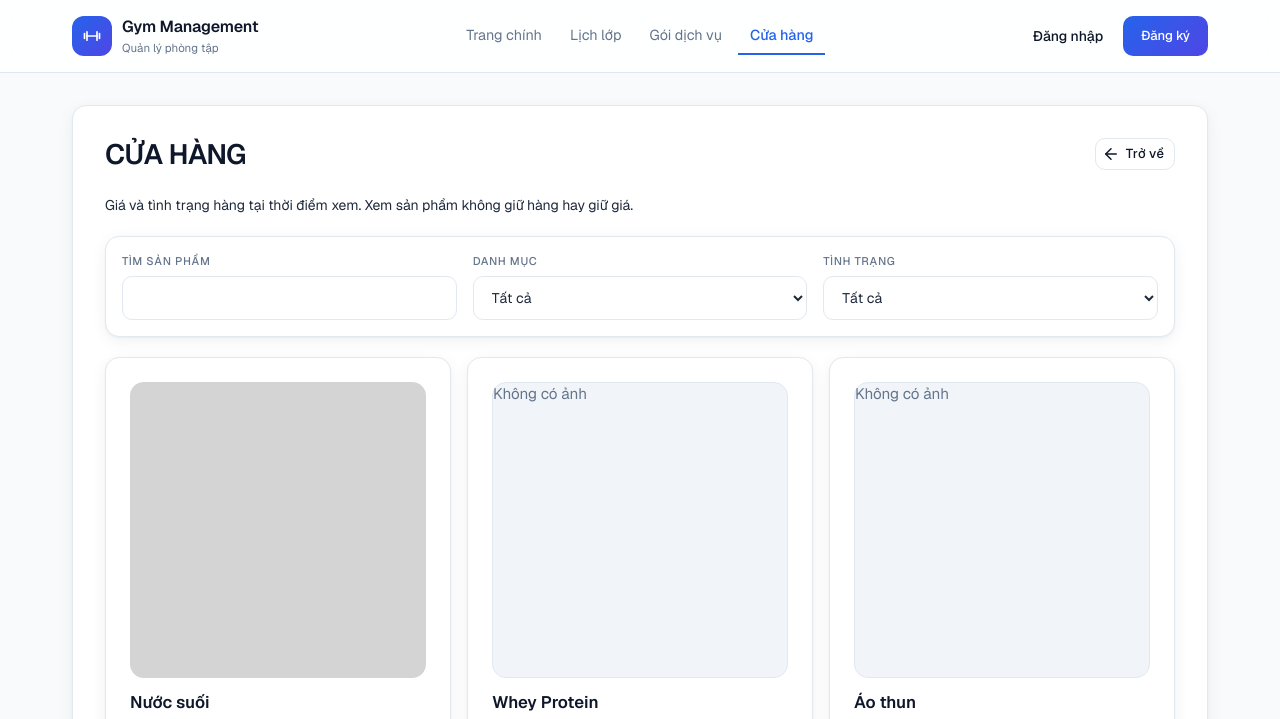
Test case: US-35 bước 3: trang /shop › US-35-TC12: mất mạng giữ từ khóa đã gõ; "Thử lại" gửi đúng query cũ và hiện kết quả
This screenshot has width=1280, height=719.
In the search field labelled "Tìm sản phẩm": (289, 298) [122,276,457,320], type "nước"
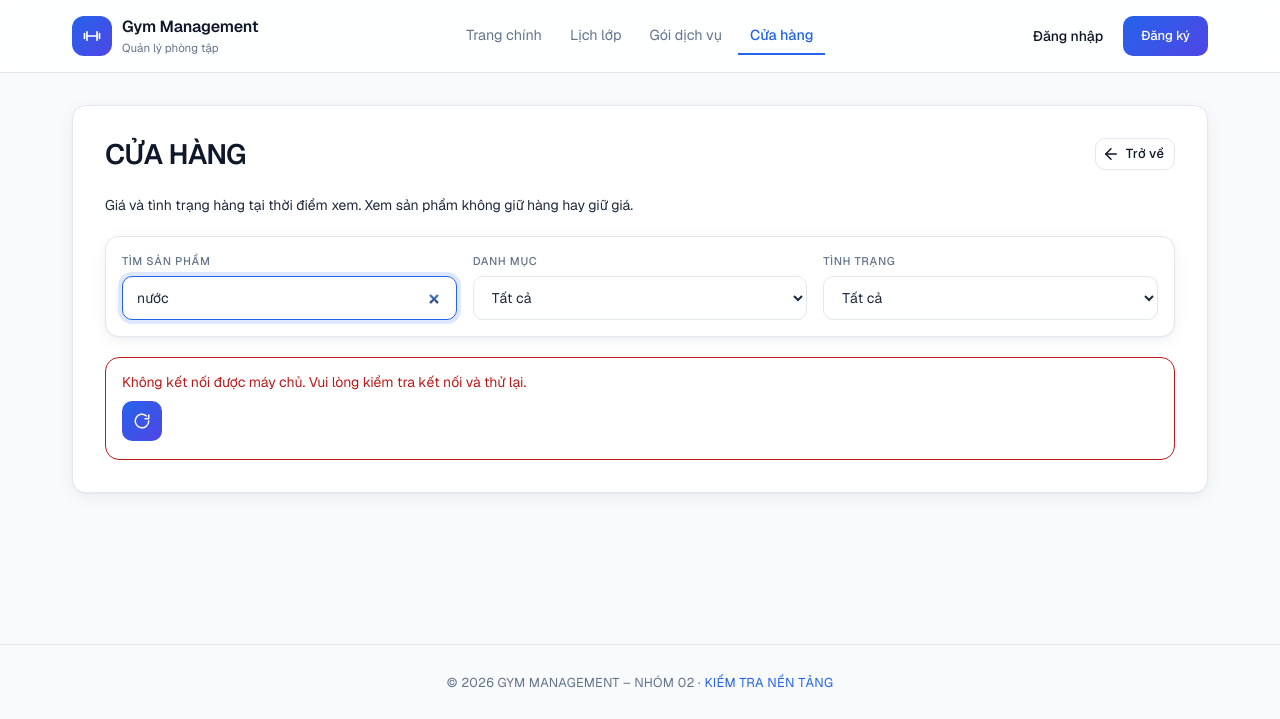
Result: the message "Không kết nối được máy chủ. Vui lòng kiểm tra kết nối và thử lại." is shown at [105,357,1175,460]
Click the button named "Thử lại": (142, 421) [122,401,162,441]
(page scrolled)
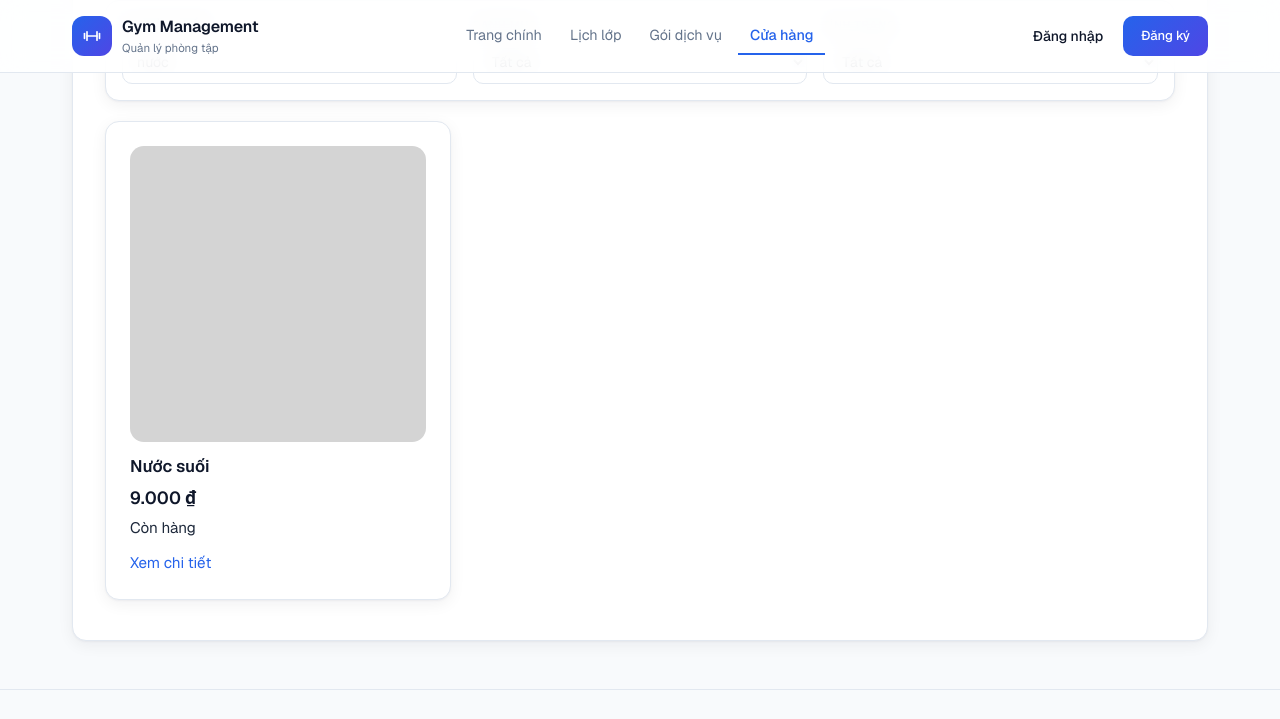
Result: the list item shows "Nước suối" at [130,455,210,477]
